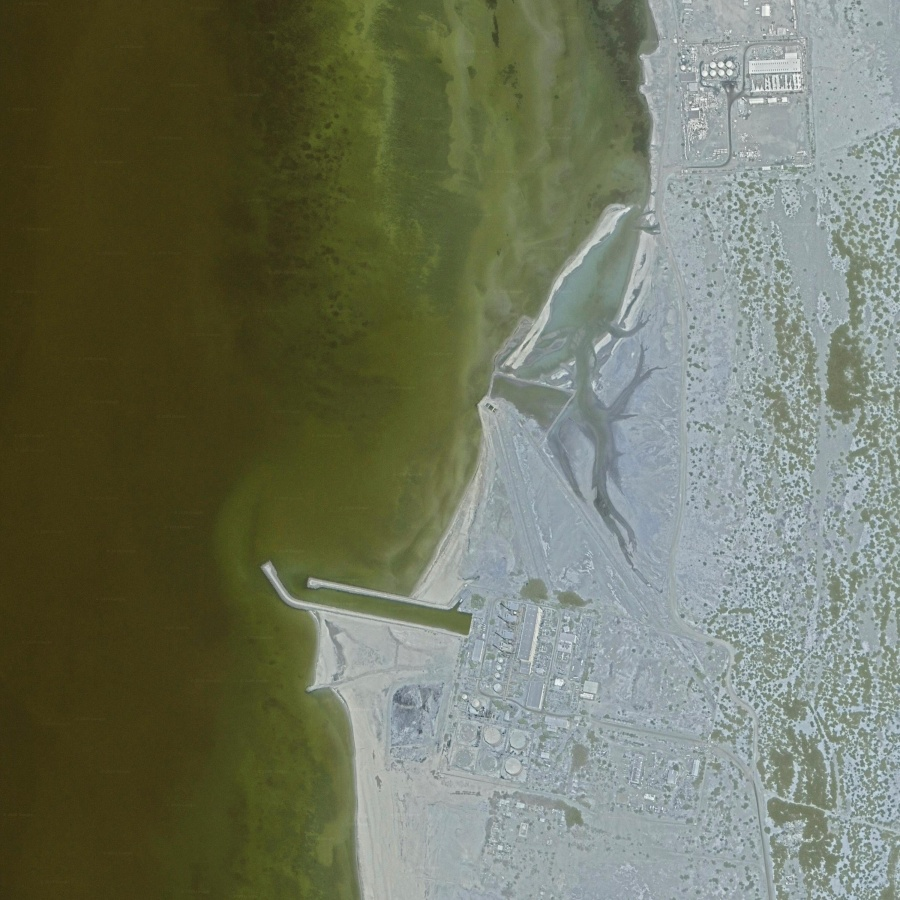PowerPlant: (379, 590, 607, 793)
